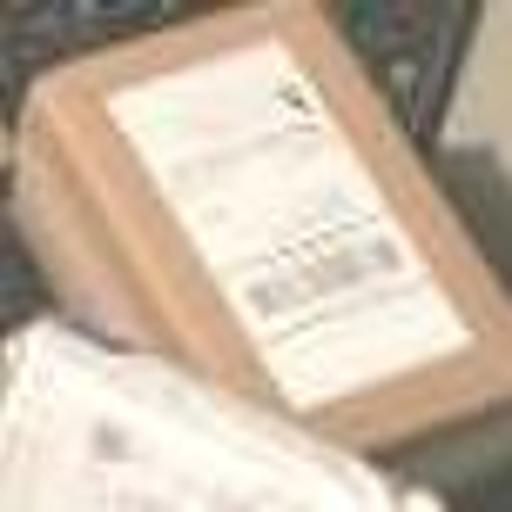Other: (27, 4, 510, 436), (11, 330, 437, 512)
